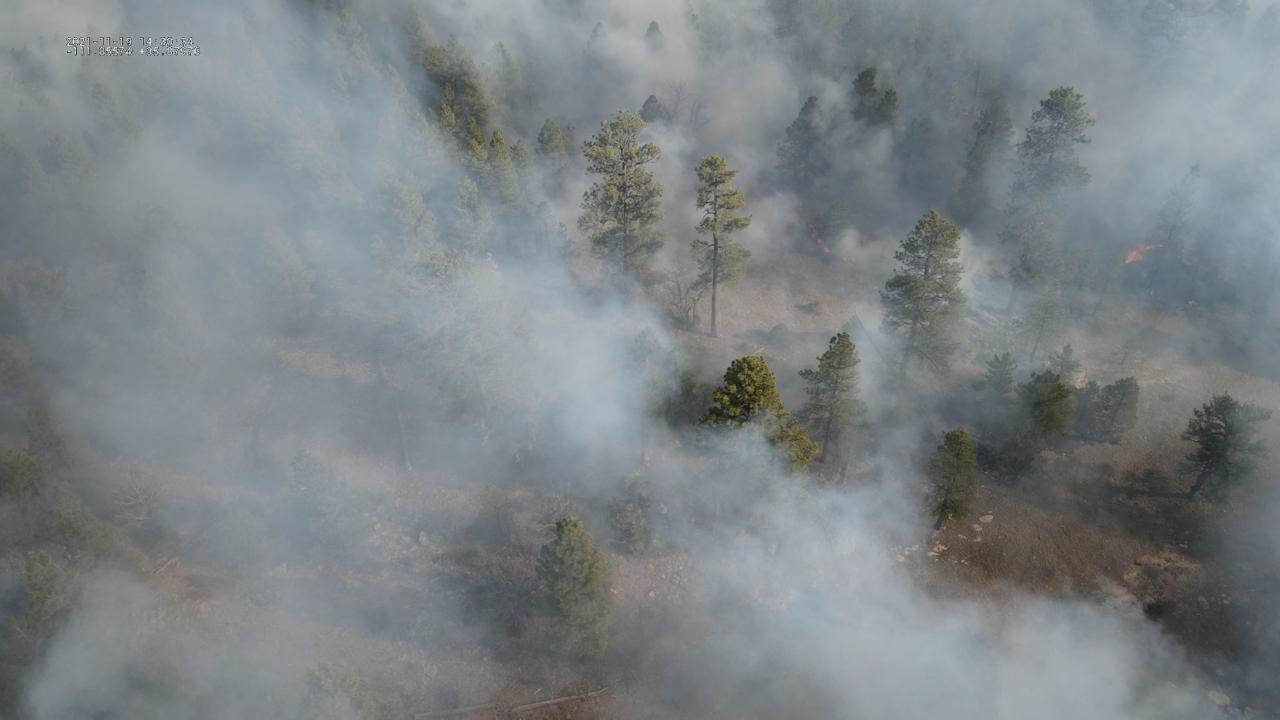fire: (1125, 241, 1166, 265), (1187, 299, 1200, 307)
smoke: (0, 0, 1280, 720)
